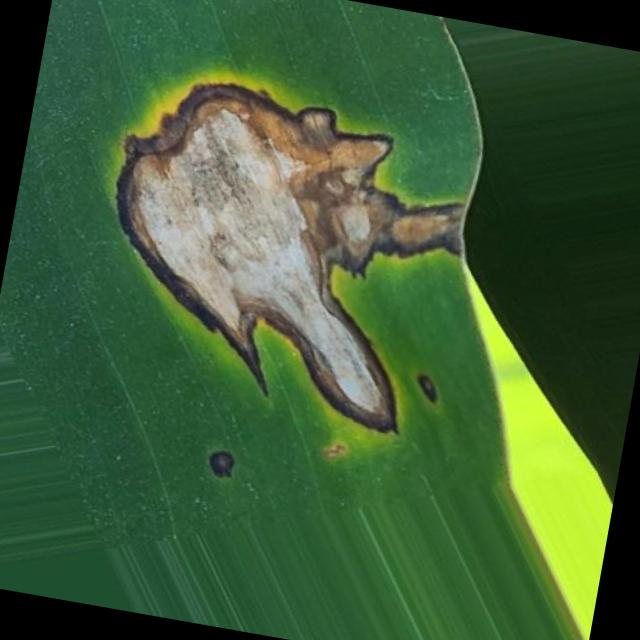Banana_Black_Sigatoka: (62, 22, 532, 488)
